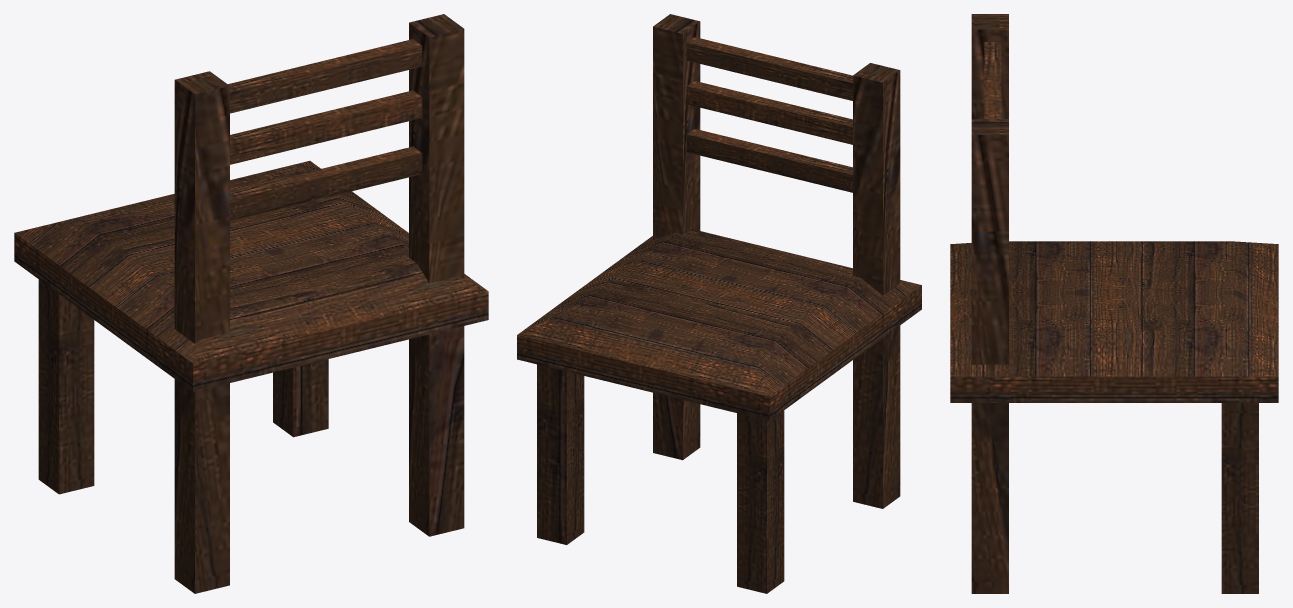
Rendered from silla.fbx.
3 renders of one model, left to right at view 1: azimuth 30°, elevation 25°; view 2: azimuth 150°, elevation 25°; view 3: azimuth 270°, elevation 25°, orthographic. The views are drawn at different scales.
Parts seen in each view (by area): view 1: Cube.225; view 2: Cube.225; view 3: Cube.225.
Boxes of the visible parts, bbox=[...] form: Cube.225: bbox=[14, 14, 488, 593]; Cube.225: bbox=[517, 14, 921, 593]; Cube.225: bbox=[950, 14, 1278, 593].
Size of the model in its own units: 40.47 by 65.31 by 42.31.
Materials: 1 (1 with a texture image).
